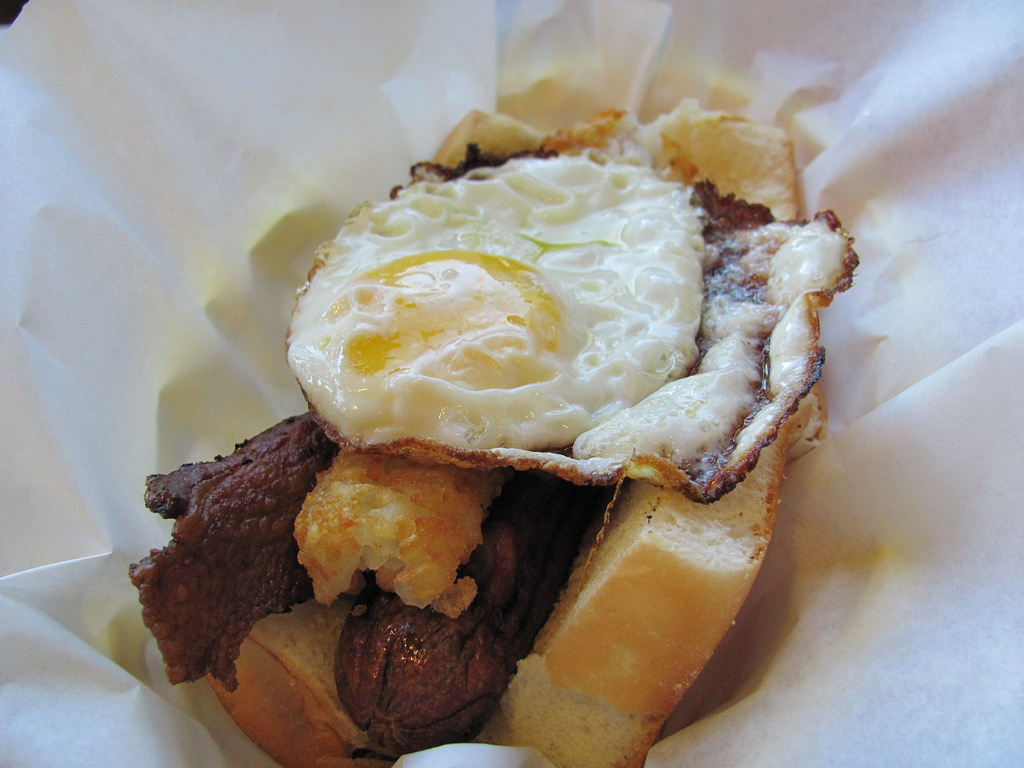fried egg: (274, 122, 872, 505)
